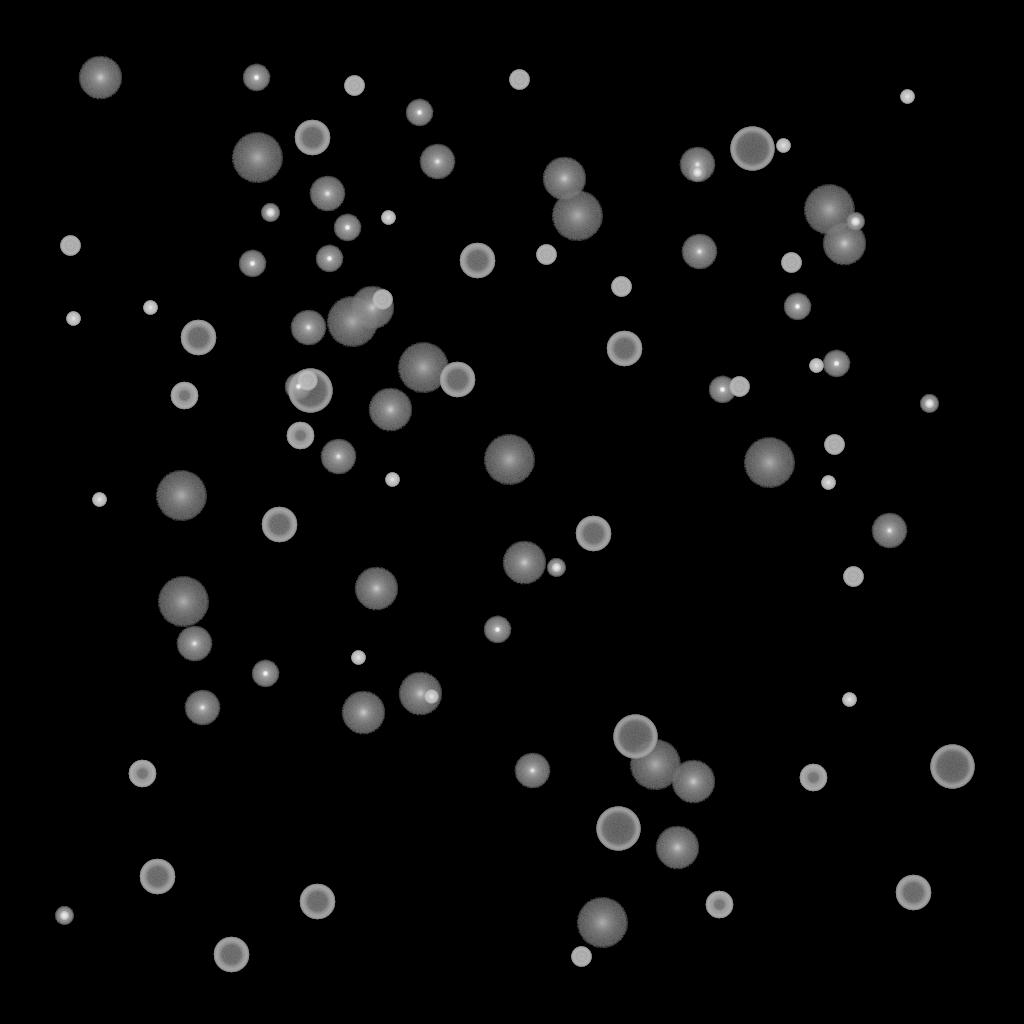depth:-10: (483, 616, 511, 644), (783, 293, 811, 321), (315, 245, 343, 273), (238, 250, 266, 278), (822, 350, 850, 378), (284, 373, 312, 401), (251, 660, 279, 688), (242, 64, 270, 92), (405, 99, 433, 127), (333, 214, 361, 242), (708, 376, 736, 404)
depth:-20: (261, 204, 279, 222), (846, 213, 864, 231), (688, 164, 706, 182), (920, 395, 938, 413), (55, 907, 73, 925), (547, 559, 565, 577)
depth:-30: (92, 493, 106, 507), (809, 359, 823, 373), (821, 476, 835, 490), (424, 690, 438, 704), (381, 211, 395, 225), (143, 301, 157, 315), (842, 693, 856, 707), (66, 312, 80, 326), (385, 473, 399, 487), (900, 90, 914, 104), (351, 651, 365, 665), (776, 139, 790, 153)
depth:-40: (729, 377, 749, 397), (824, 435, 844, 455), (843, 567, 863, 587), (344, 76, 364, 96), (611, 277, 631, 297), (536, 245, 556, 265), (297, 371, 317, 391), (60, 236, 80, 256), (509, 70, 529, 90), (372, 290, 392, 310), (571, 947, 591, 967), (781, 253, 801, 273)
depth:-50: (799, 764, 827, 792), (128, 760, 156, 788), (705, 891, 733, 919), (286, 422, 314, 450), (170, 382, 198, 410)
depth:-60: (459, 243, 495, 279), (575, 516, 611, 552), (606, 331, 642, 367), (139, 859, 175, 895), (180, 320, 216, 356), (261, 507, 297, 543), (439, 362, 475, 398), (213, 937, 249, 973), (294, 120, 330, 156), (895, 875, 931, 911), (299, 884, 335, 920)
depth:-70: (930, 745, 974, 789), (730, 127, 774, 171), (613, 715, 657, 759), (596, 807, 640, 851), (288, 369, 332, 413)
depth:0: (514, 753, 550, 789), (320, 439, 356, 475), (419, 144, 455, 180), (176, 626, 212, 662), (871, 513, 907, 549), (290, 310, 326, 346), (679, 147, 715, 183), (184, 690, 220, 726), (681, 234, 717, 270), (309, 176, 345, 212)
depth:10: (542, 157, 586, 201), (354, 567, 398, 611), (368, 388, 412, 432), (671, 760, 715, 804), (398, 672, 442, 716), (655, 826, 699, 870), (822, 222, 866, 266), (341, 691, 385, 735), (350, 286, 394, 330), (78, 56, 122, 100), (502, 541, 546, 585)
depth:20: (629, 740, 681, 790), (551, 191, 603, 241), (326, 297, 378, 347), (231, 133, 283, 183), (803, 185, 855, 235), (155, 471, 207, 521), (576, 898, 628, 948), (397, 343, 449, 393), (743, 438, 795, 488), (157, 577, 209, 627), (483, 435, 535, 485)
